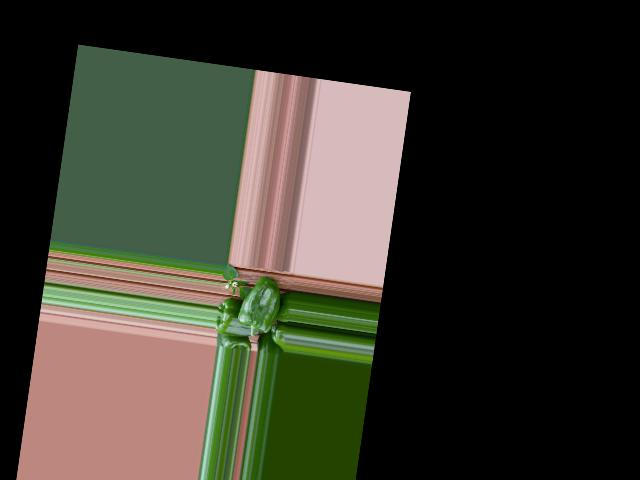bell_pepper: (266, 324, 288, 352)
